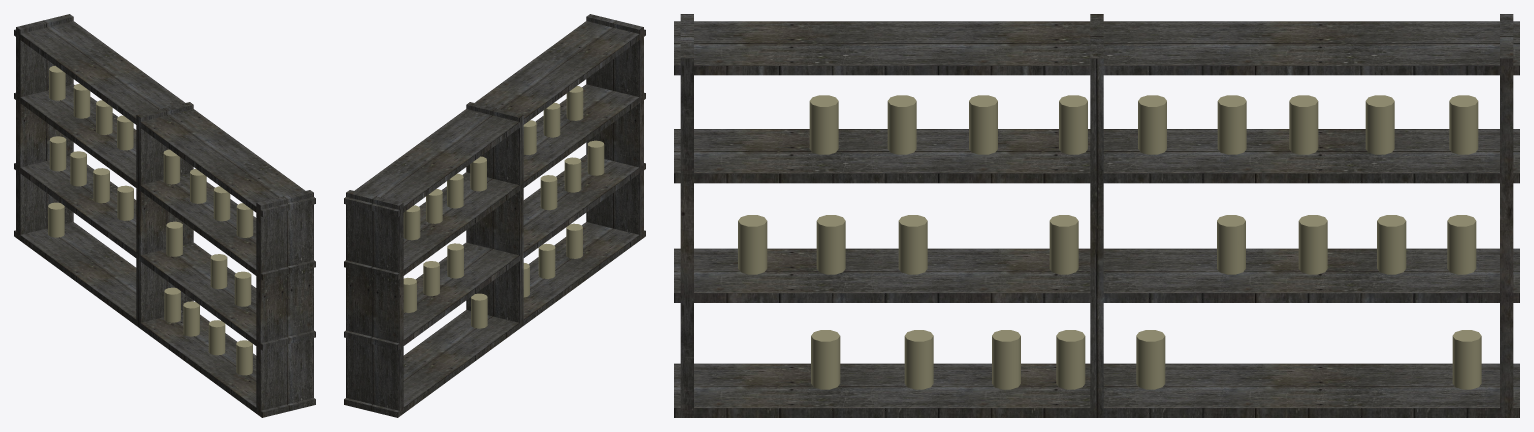
The model's file is jar_shelf.glb.
The picture shows the model from 3 angles, left to right: view 1: azimuth 30°, elevation 25°; view 2: azimuth 150°, elevation 25°; view 3: azimuth 270°, elevation 25°; orthographic projection. The views are drawn at different scales.
Parts seen in each view (by area): view 1: jar_shelf; view 2: jar_shelf; view 3: jar_shelf.
Part boxes in pixels (left/top/right/bottom): jar_shelf: left=14, top=14, right=315, bottom=417; jar_shelf: left=344, top=14, right=645, bottom=417; jar_shelf: left=674, top=14, right=1519, bottom=417.
Bounding box in the file's own units: 0.4 × 1.5 × 3.2.
2 materials, 1 textured.
